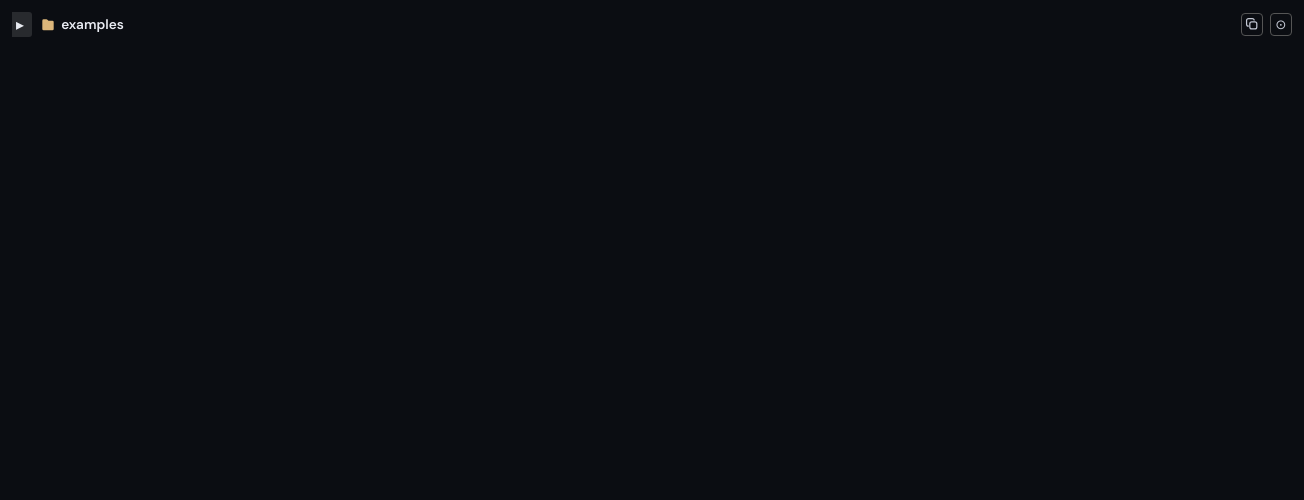
Test: TreeNode › expands a class-level row to reveal its method children
Click the button "examples" at (82, 24), box x1=34 y1=12 x2=130 y2=37
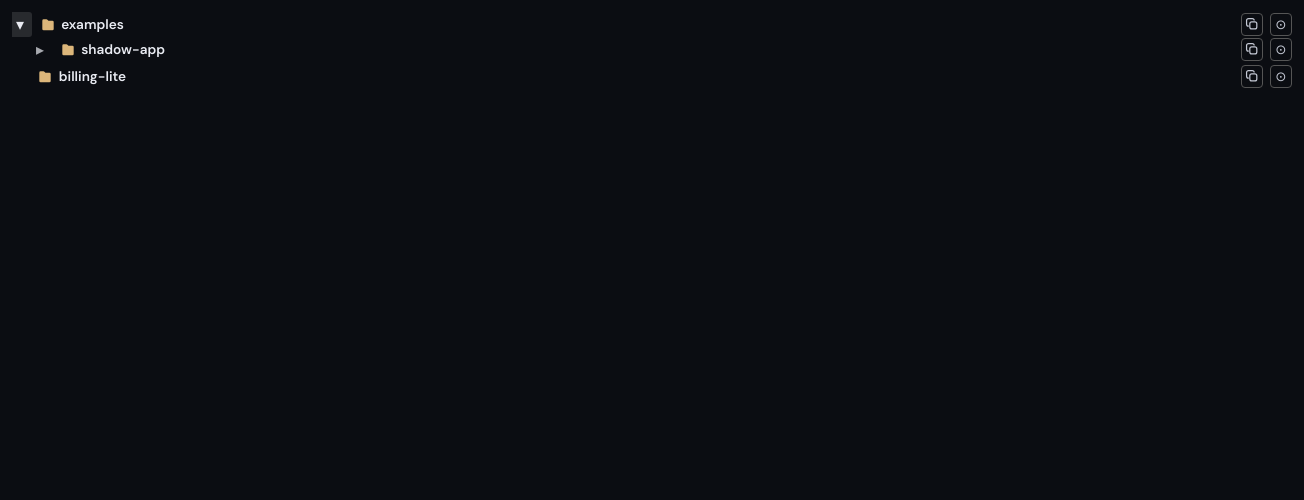
Now the text "shadow-app" is shown, box x1=81 y1=41 x2=165 y2=58
Click the button "shadow-app" at (113, 50), box x1=54 y1=37 x2=171 y2=62
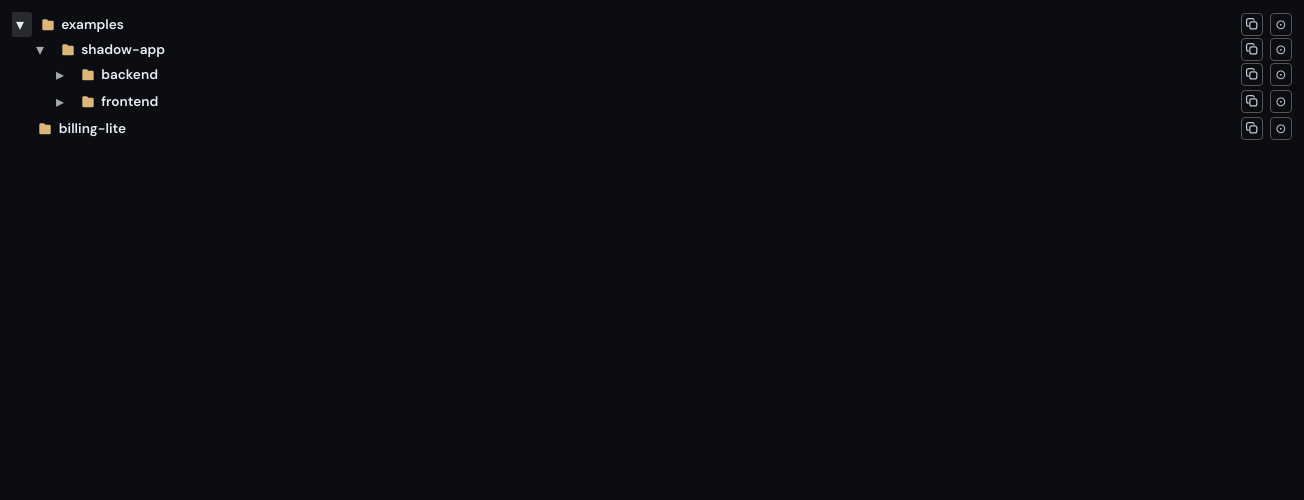
Now the text "backend" is shown, box x1=101 y1=66 x2=158 y2=83
Click the button "backend" at (119, 74), box x1=74 y1=62 x2=164 y2=87
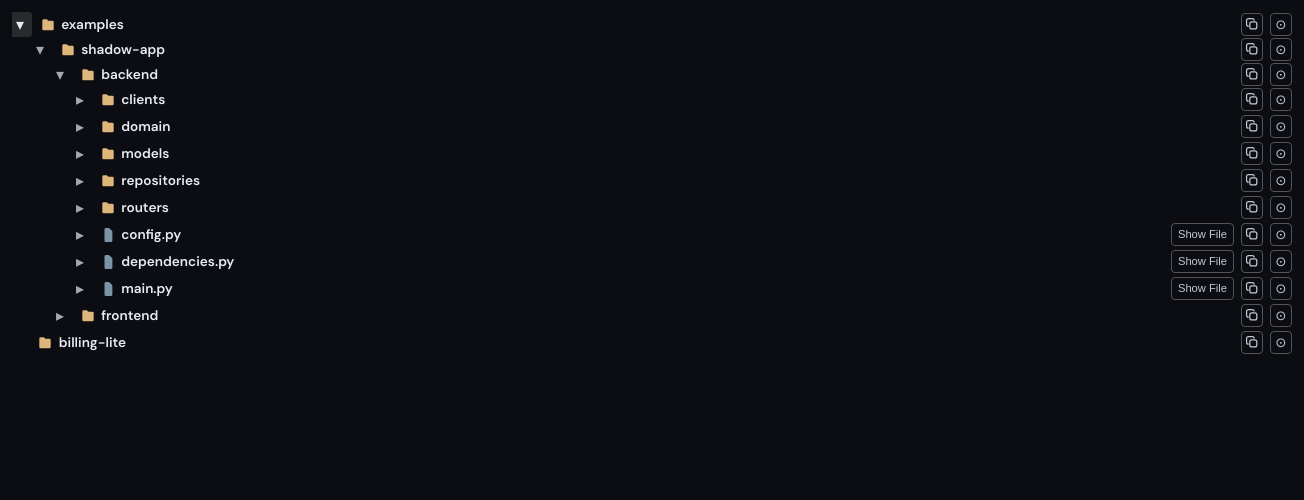
Now the text "clients" is shown, box x1=121 y1=91 x2=165 y2=108
Click the button "clients" at (133, 100), box x1=101 y1=91 x2=165 y2=108
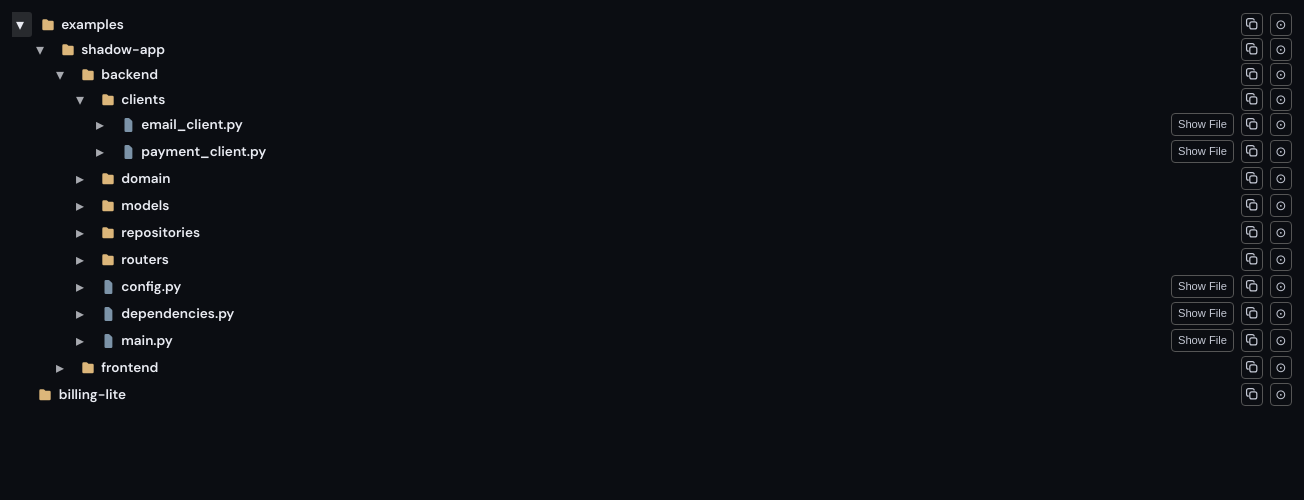
Now the text "email_client.py" is shown, box x1=141 y1=116 x2=243 y2=133
Click the button "email_client.py" at (182, 124), box x1=114 y1=112 x2=249 y2=137
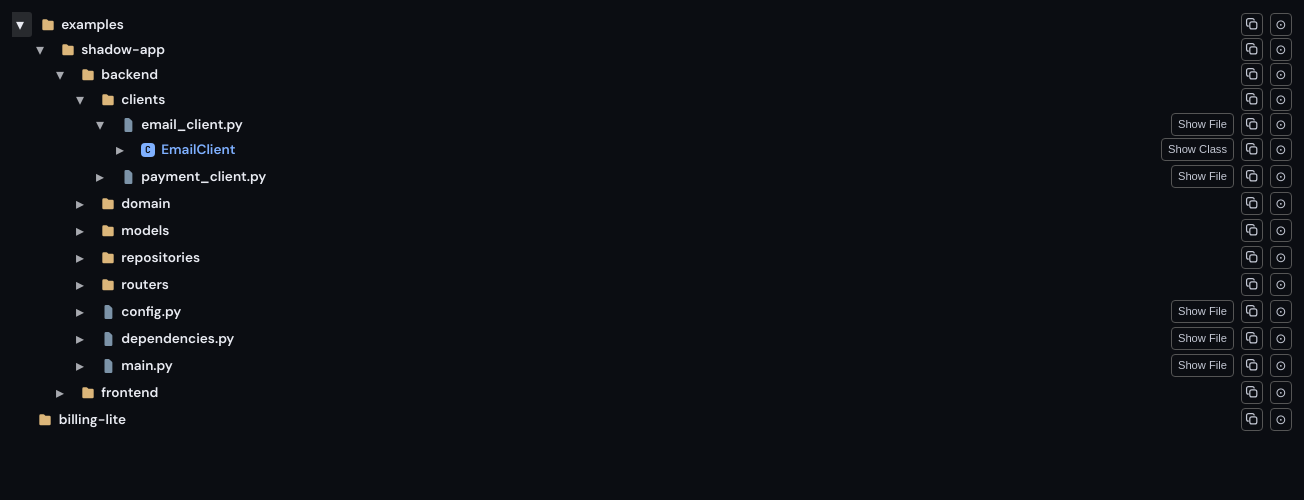
Now the text "EmailClient" is shown
Click the text "EmailClient" at (198, 150), box x1=161 y1=141 x2=236 y2=158
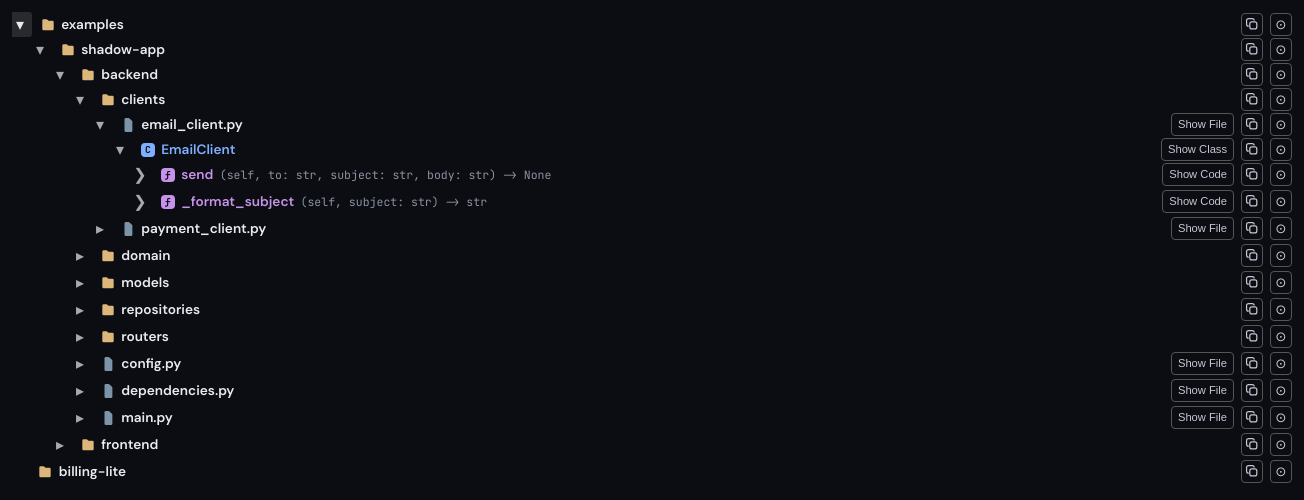
Now the text "send" is shown, box x1=181 y1=166 x2=213 y2=183
Now the text "_format_subject" is shown, box x1=181 y1=193 x2=294 y2=210
